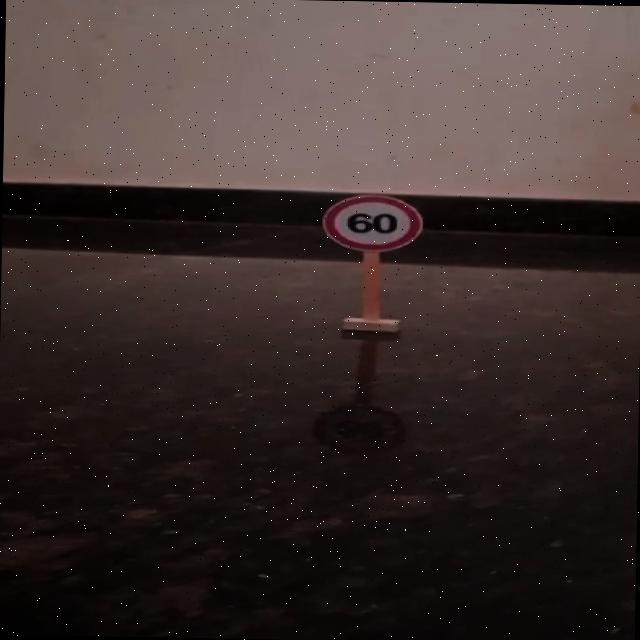Speed60: (303, 185, 436, 260)
